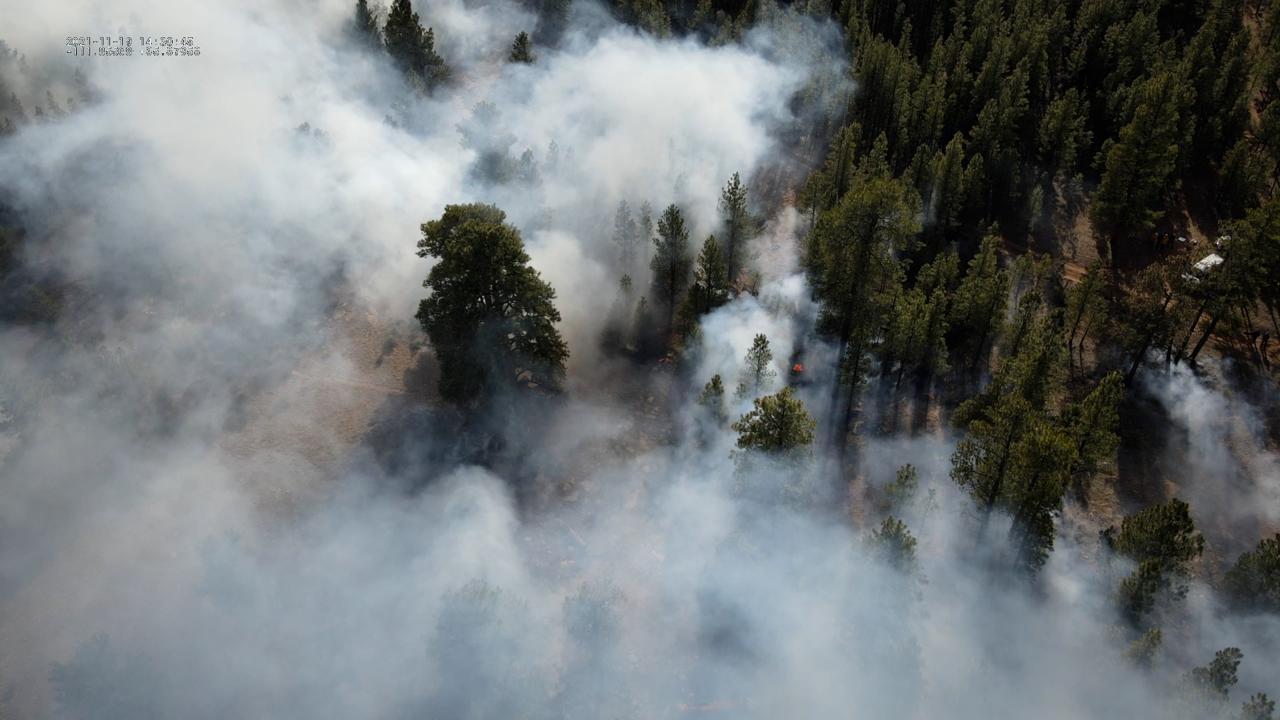fire: (790, 361, 805, 373)
smoke: (0, 0, 1280, 720)
